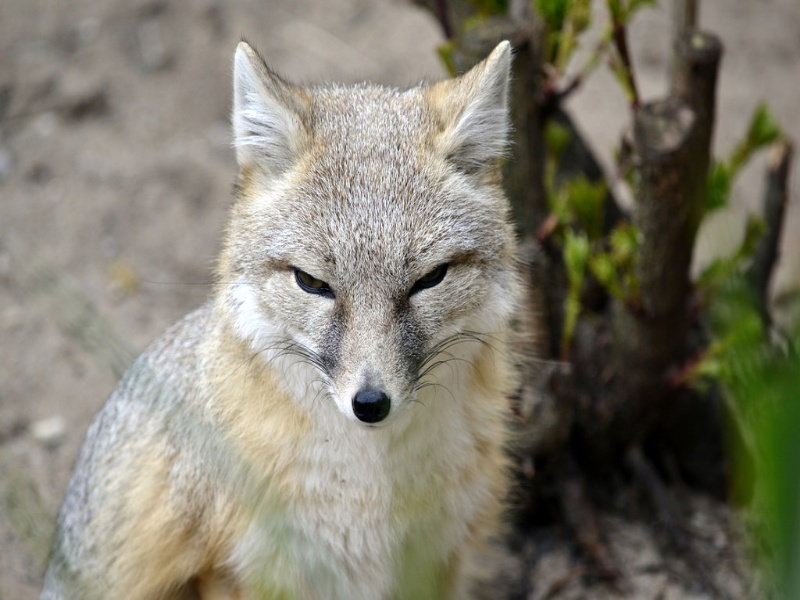fox: (57, 32, 521, 595)
